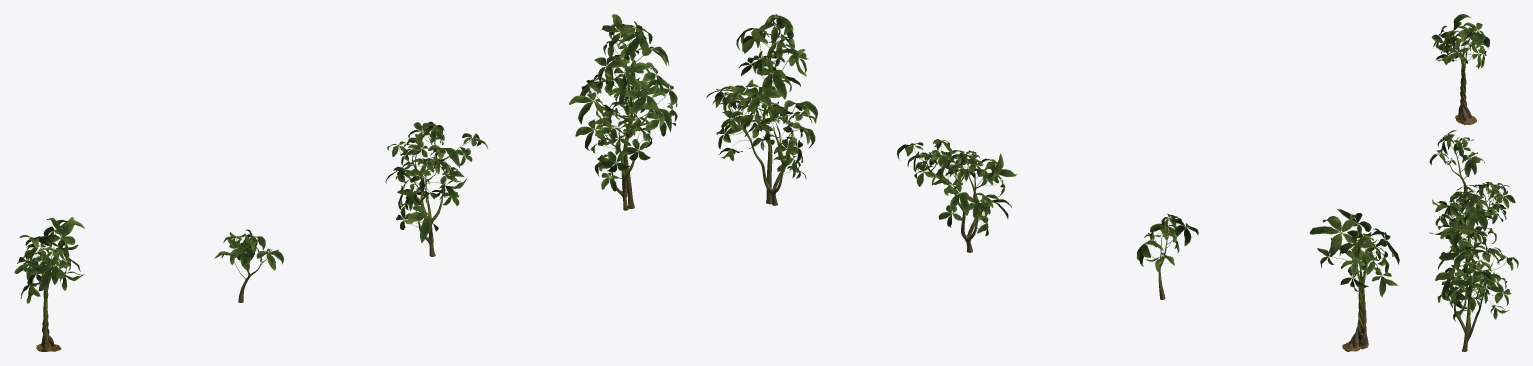
File: pachira_aquatica_01.glb
3 views of the same model, side by side, from view 1: azimuth 30°, elevation 25°; view 2: azimuth 150°, elevation 25°; view 3: azimuth 270°, elevation 25° (orthographic). The views are drawn at different scales.
Visible parts, largest first — view 1: pachira_aquatica_01_leaves_a, pachira_aquatica_01_bark_a; view 2: pachira_aquatica_01_leaves_a, pachira_aquatica_01_bark_a; view 3: pachira_aquatica_01_leaves_a, pachira_aquatica_01_bark_a.
Boxes of the visible parts, box(x1,y1,x2,y2) form: pachira_aquatica_01_leaves_a: box(14, 14, 677, 303); pachira_aquatica_01_bark_a: box(36, 44, 652, 351); pachira_aquatica_01_leaves_a: box(706, 14, 1399, 297); pachira_aquatica_01_bark_a: box(728, 43, 1368, 351); pachira_aquatica_01_leaves_a: box(1429, 14, 1518, 321); pachira_aquatica_01_bark_a: box(1447, 50, 1497, 351).
Size of the model in its own units: 6.87 by 1.9 by 0.997.
Materials: 2 (2 with a texture image).
